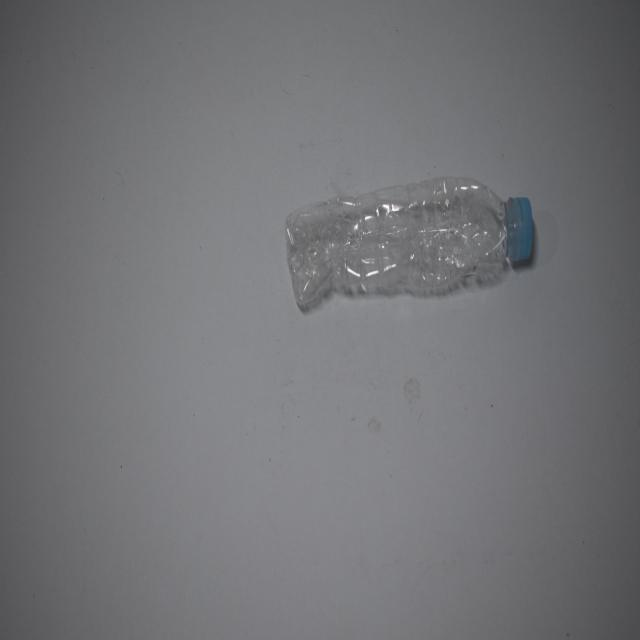bottle: (282, 177, 538, 318)
